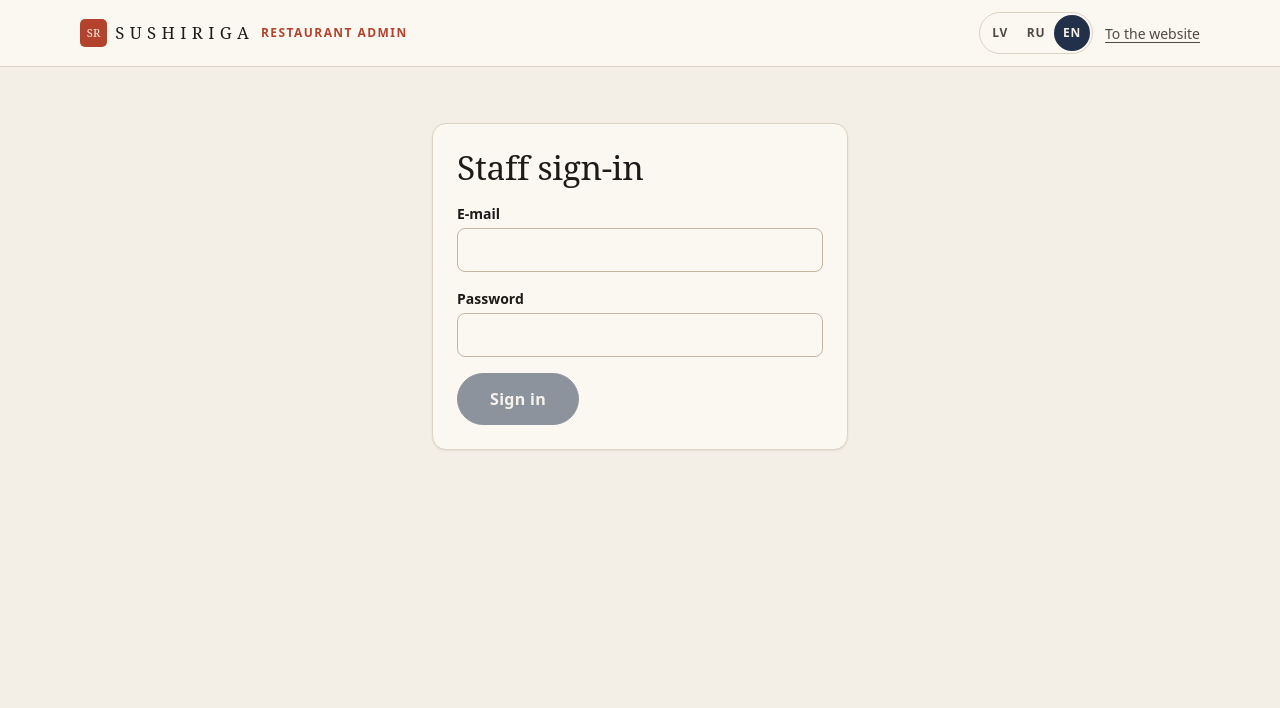
it: admin panel › staff sign in, then accept a paid order with the chosen preparation time
In the field labelled "E-mail": (640, 250) [457, 228, 823, 272], type "cook@sushiriga.lv"
In the password field labelled "Password": (640, 335) [457, 313, 823, 357], type "wrong password!!"
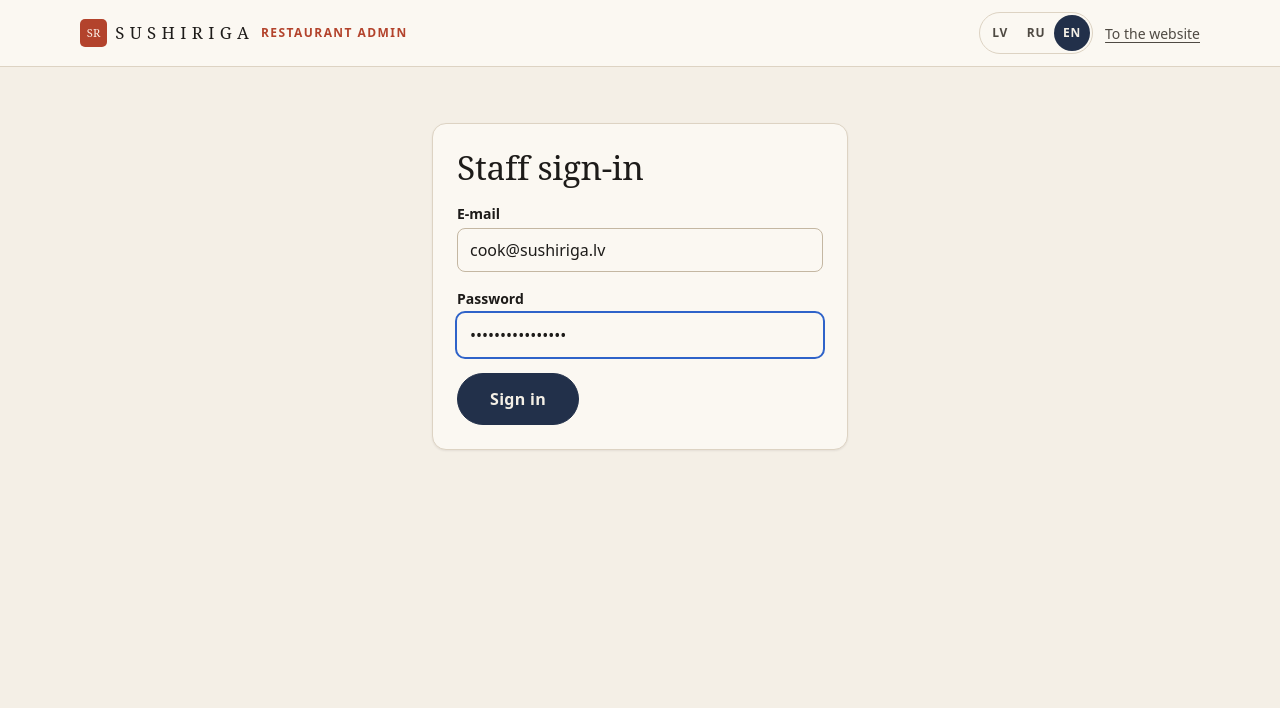
Click the button "Sign in": (518, 399) [457, 373, 579, 425]
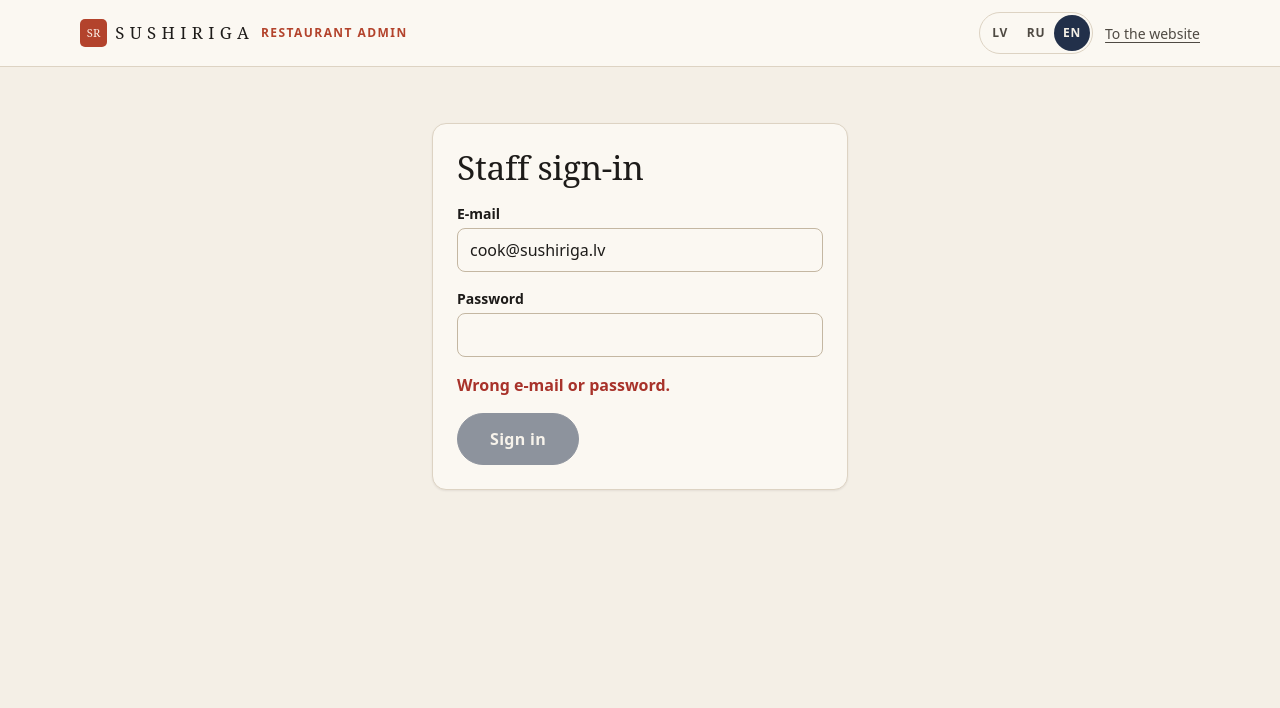
Expected: the message reads "Wrong e-mail or password.", [457, 374, 670, 396]
In the password field labelled "Password": (640, 335) [457, 313, 823, 357], type "correct horse battery"
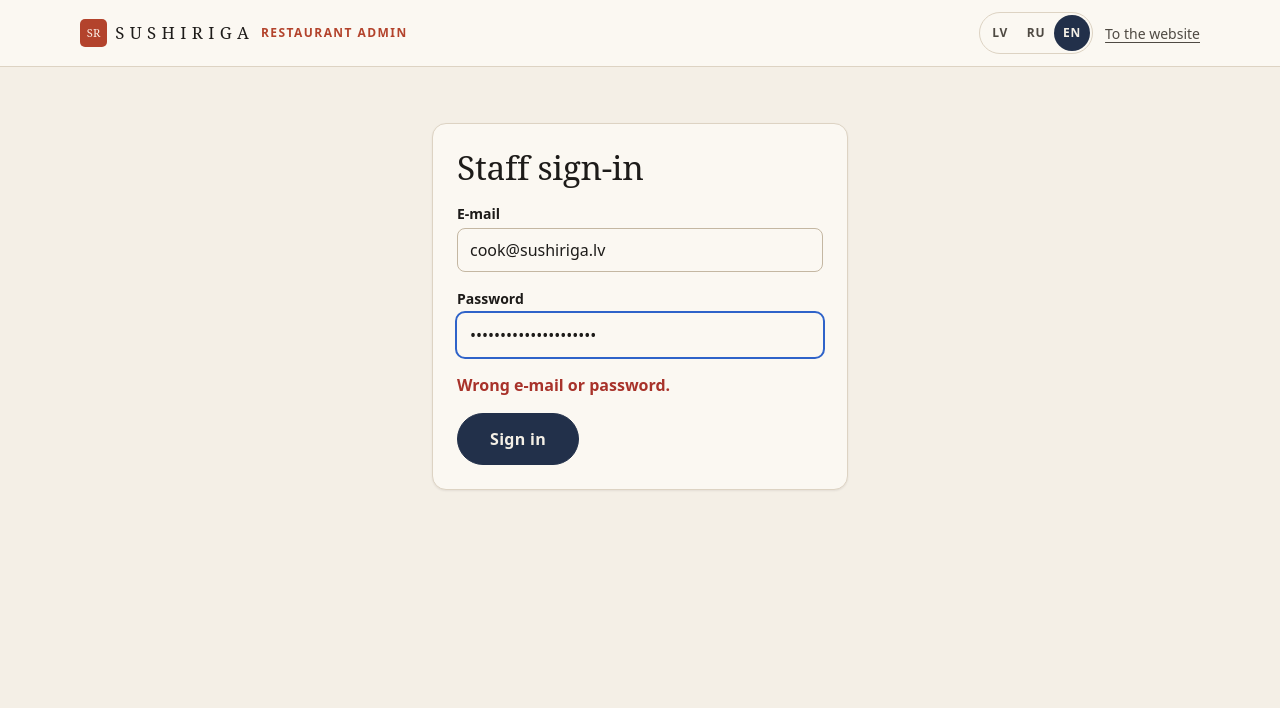
Click the button "Sign in": (518, 439) [457, 413, 579, 465]
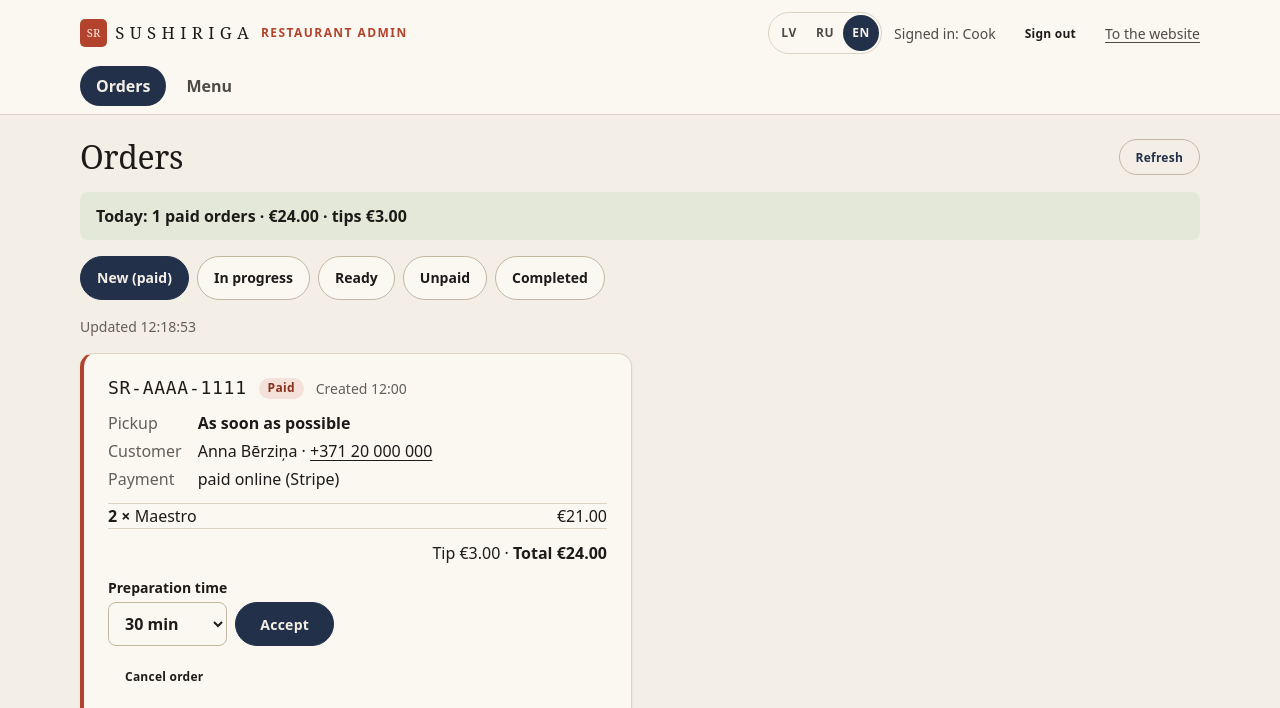
Expected: the text "Signed in: Cook" is shown, [894, 22, 996, 44]
Expected: the text with test id "admin-summary" reads "Today: 1 paid orders · €24.00 · tips €3.00", [96, 205, 407, 227]
Expected: the link "Menu" is shown, [186, 75, 232, 97]
Select "45 min" in the dropdown labelled "Preparation time": (168, 624) [108, 602, 227, 646]
Click the button "Accept": (285, 624) [235, 602, 334, 646]
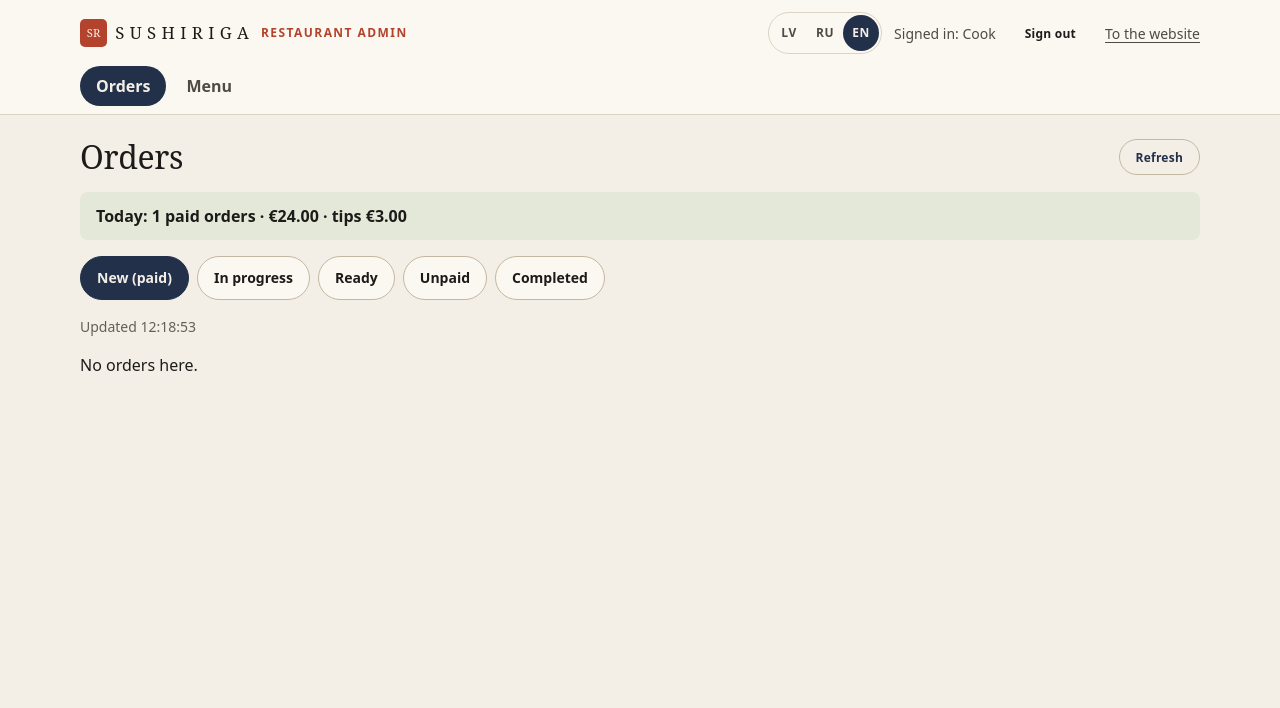
Expected: the heading "SR-AAAA-1111" is gone
Note: It leaves "New (paid)" and appears in "In progress".
Click the radio button labelled "In progress": (254, 278) [197, 256, 310, 300]
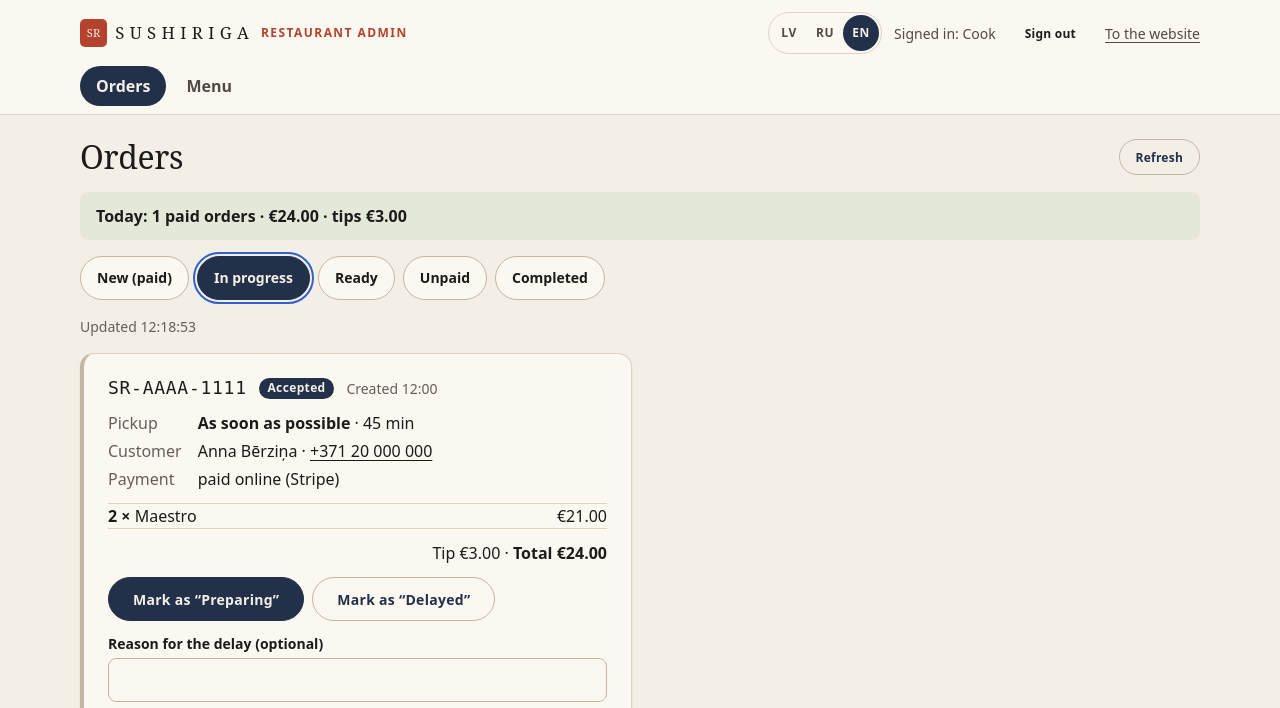
Expected: the text "Accepted" is shown, [259, 378, 334, 399]
Expected: the button "Mark as “Preparing”" is shown, [108, 577, 304, 621]
